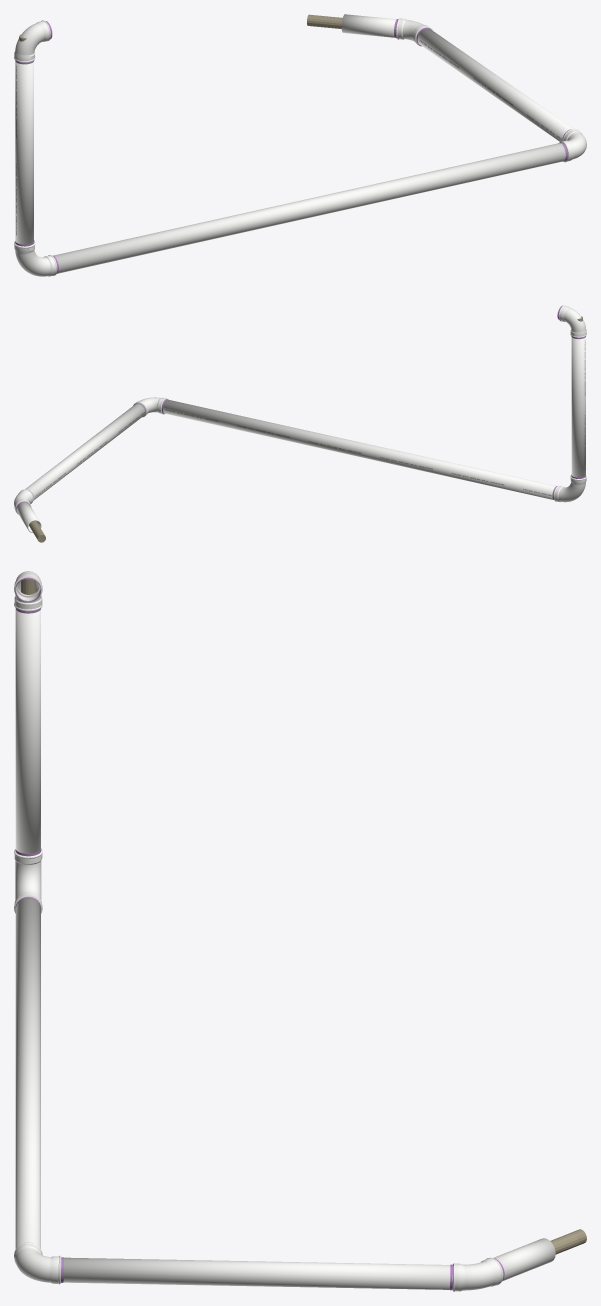
File: slab_pipes_dwv__sewer__acadec57.glb
3 renders of one model, top to bottom at view 1: azimuth 30°, elevation 25°; view 2: azimuth 150°, elevation 25°; view 3: azimuth 270°, elevation 25°, orthographic. The views are drawn at different scales.
Parts seen in each view (by area): view 1: pipe_dwv_kitchen_aav_quarter, fit_elbow_pipe_dwv_kitchen_aav_quarter, flow_waste_pipe_dwv_kitchen_aav_quarter; view 2: pipe_dwv_kitchen_aav_quarter, fit_elbow_pipe_dwv_kitchen_aav_quarter; view 3: pipe_dwv_kitchen_aav_quarter.
Boxes of the visible parts, x1,y1,x2,y2 form: pipe_dwv_kitchen_aav_quarter: (14,14,586,276); fit_elbow_pipe_dwv_kitchen_aav_quarter: (14,20,52,64); flow_waste_pipe_dwv_kitchen_aav_quarter: (19,14,342,41); pipe_dwv_kitchen_aav_quarter: (14,337,586,532); fit_elbow_pipe_dwv_kitchen_aav_quarter: (557,305,586,339); pipe_dwv_kitchen_aav_quarter: (14,609,555,1291).
Bounding box in the file's own units: 2.12 × 0.9604 × 1.37.
